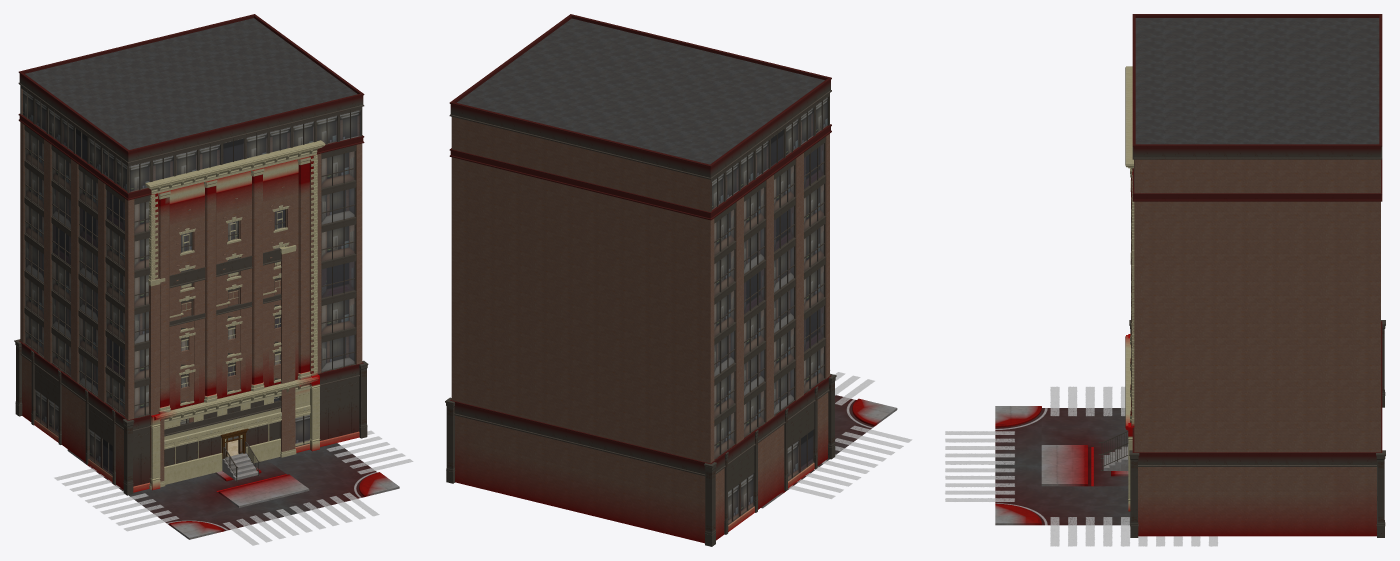
Rendered from city.glb.
3 renders of one model, left to right at view 1: azimuth 30°, elevation 25°; view 2: azimuth 150°, elevation 25°; view 3: azimuth 270°, elevation 25°, orthographic. The views are drawn at different scales.
Visible parts, largest first — view 1: Building_Large_2, Building_Medium_2.001, Street_4WayIntersection, Building_Small_1, Street_2Lane; view 2: Building_Large_2, Street_4WayIntersection; view 3: Building_Large_2, Street_4WayIntersection, Street_2Lane, Building_Medium_2.001, Building_Small_1.
Part boxes in pixels (left/top/right/bottom): Building_Large_2: left=14, top=14, right=368, bottom=495; Building_Medium_2.001: left=145, top=140, right=325, bottom=490; Street_4WayIntersection: left=54, top=430, right=413, bottom=545; Building_Small_1: left=148, top=245, right=296, bottom=489; Street_2Lane: left=197, top=460, right=309, bottom=507; Building_Large_2: left=445, top=14, right=836, bottom=546; Street_4WayIntersection: left=761, top=370, right=911, bottom=508; Building_Large_2: left=1129, top=14, right=1385, bottom=537; Street_4WayIntersection: left=945, top=386, right=1217, bottom=546; Street_2Lane: left=1041, top=445, right=1128, bottom=486; Building_Medium_2.001: left=1125, top=66, right=1134, bottom=511; Building_Small_1: left=1098, top=180, right=1130, bottom=470.
Bounding box in the file's own units: 24.67 × 28.15 × 28.66.
Materials: 13 (12 with a texture image).
